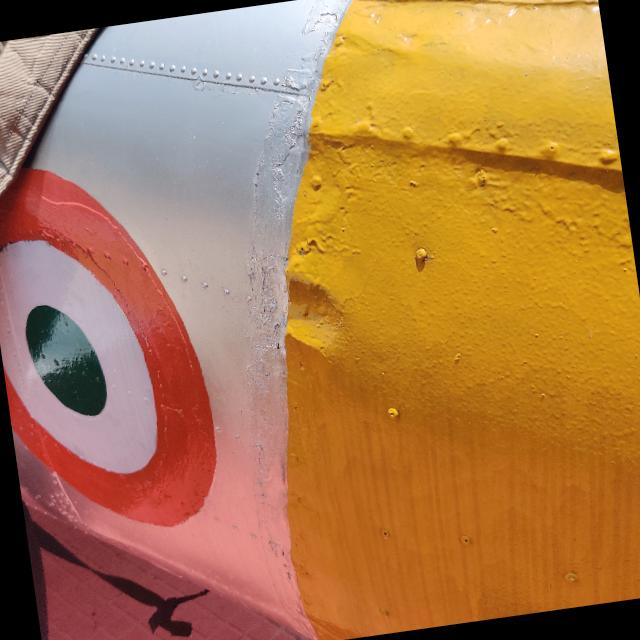dent: (242, 242, 375, 391)
